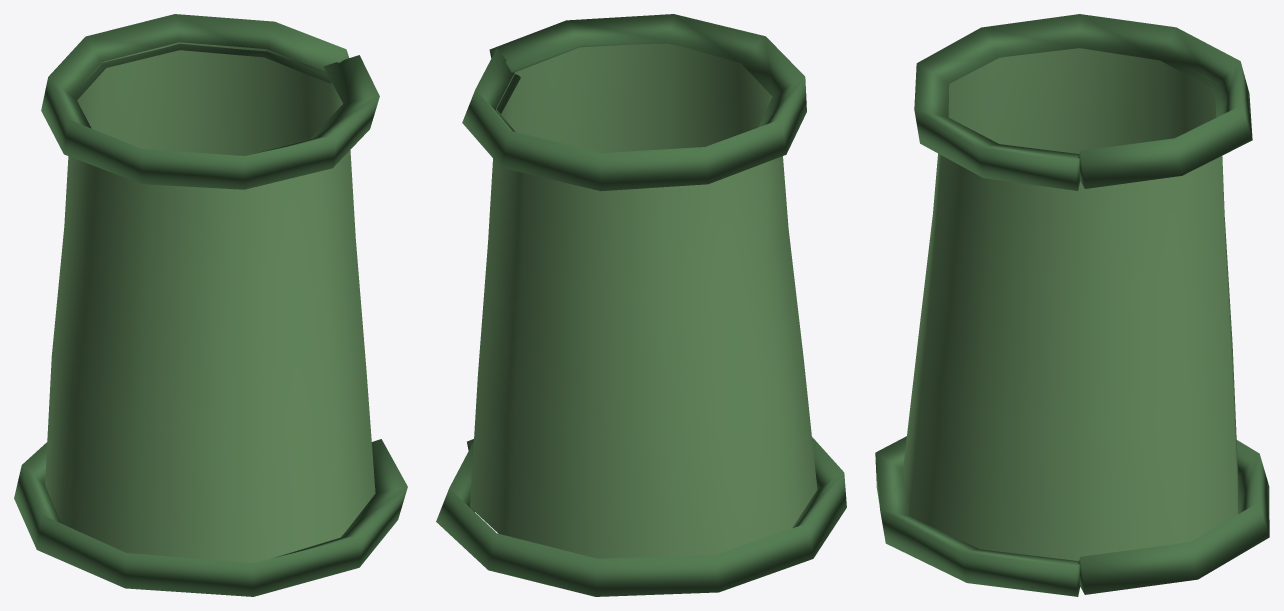
File: tungsten_armor_bracer.L.glb
3 views of the same model, side by side, from view 1: azimuth 30°, elevation 25°; view 2: azimuth 150°, elevation 25°; view 3: azimuth 270°, elevation 25° (orthographic). The views are drawn at different scales.
Visible parts, largest first — view 1: tungsten_armor_bracer.L; view 2: tungsten_armor_bracer.L; view 3: tungsten_armor_bracer.L.
Part boxes in pixels (x1,y1,x2,y2): tungsten_armor_bracer.L: (14,14,407,596); tungsten_armor_bracer.L: (436,14,846,596); tungsten_armor_bracer.L: (875,14,1269,596).
Bounding box in the file's own units: 0.144 × 0.1719 × 0.1414.
